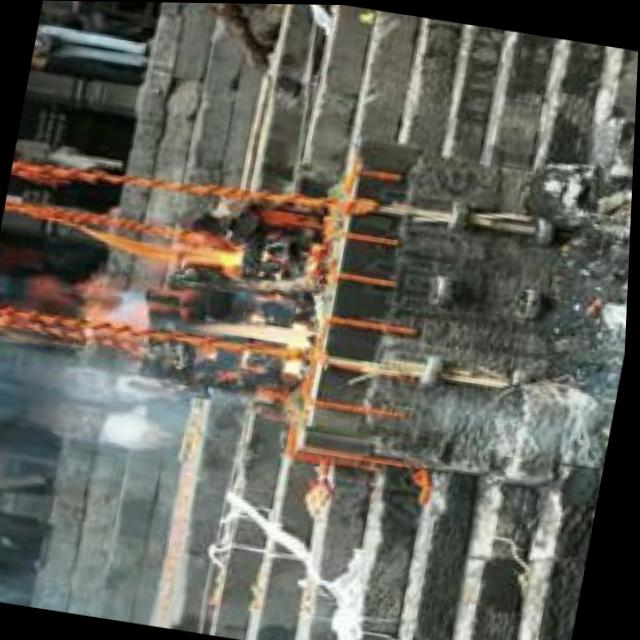Fire: (76, 211, 342, 373)
